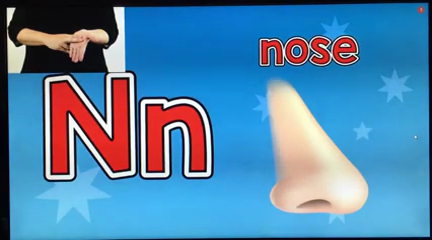N: (47, 26, 96, 66)
